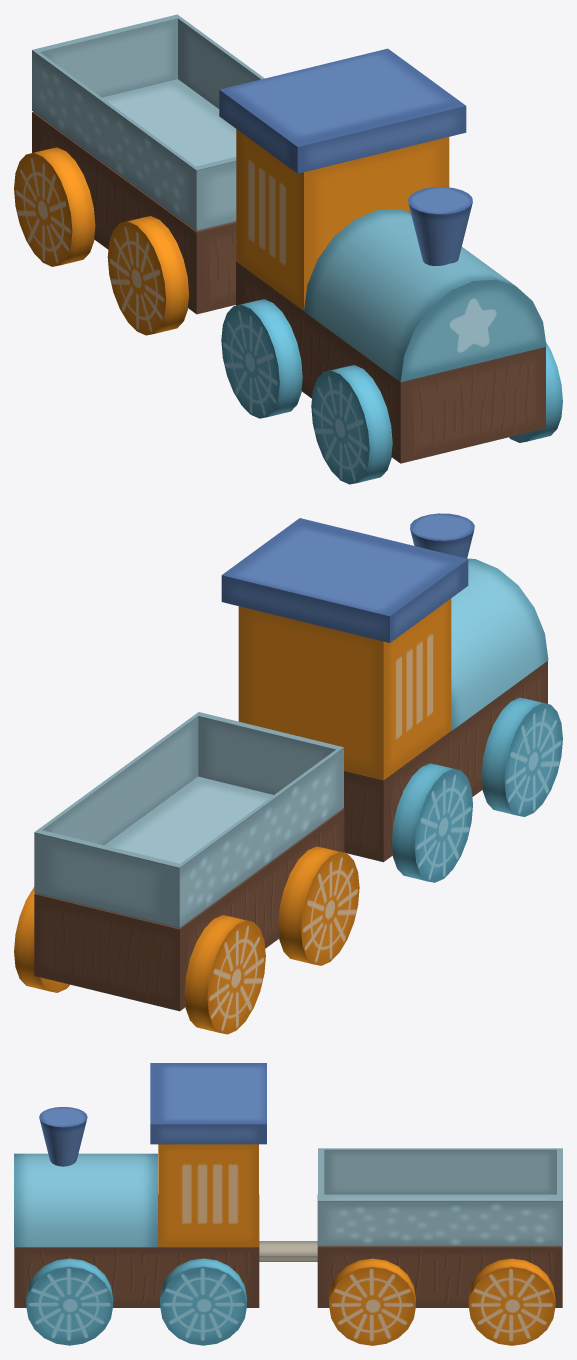
Rendered from Speelgoed treintje.fbx.
3 renders of one model, top to bottom at view 1: azimuth 30°, elevation 25°; view 2: azimuth 150°, elevation 25°; view 3: azimuth 270°, elevation 25°, orthographic. The views are drawn at different scales.
Visible parts, largest first — view 1: Trein2; view 2: Trein2; view 3: Trein2.
Part boxes in pixels (<box>): Trein2: <box>14,14,562,484</box>; Trein2: <box>14,513,562,1034</box>; Trein2: <box>14,1063,562,1345</box>.
Bounding box in the file's own units: 4.11 × 5.91 × 13.57.
1 material, 1 textured.
